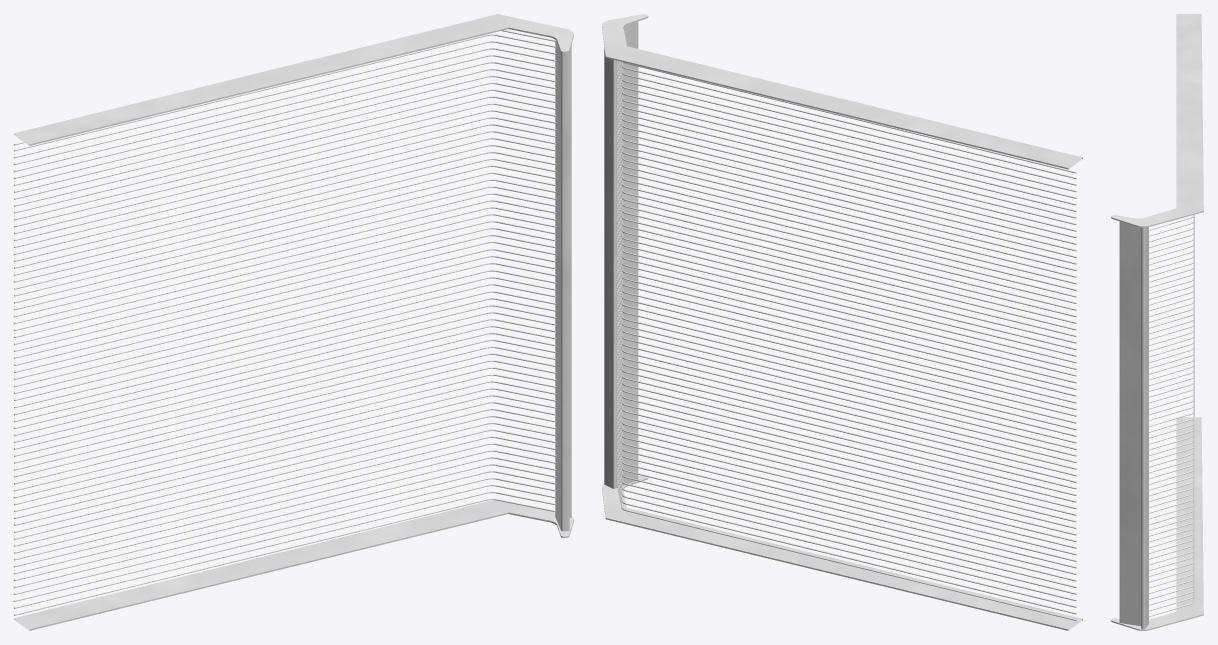
The model's file is ShelfBasketBase01.obj.
3 renders of one model, left to right at view 1: azimuth 30°, elevation 25°; view 2: azimuth 150°, elevation 25°; view 3: azimuth 270°, elevation 25°, orthographic. The views are drawn at different scales.
Parts seen in each view (by area): view 1: ShelfBasketBase01; view 2: ShelfBasketBase01; view 3: ShelfBasketBase01.
Boxes of the visible parts, x1=… form: ShelfBasketBase01: x1=14, y1=14, x2=573, y2=630; ShelfBasketBase01: x1=602, y1=14, x2=1082, y2=630; ShelfBasketBase01: x1=1111, y1=14, x2=1203, y2=630.
Size of the model in its own units: 0.699 by 0.6165 by 0.1281.
1 material, 1 textured.
